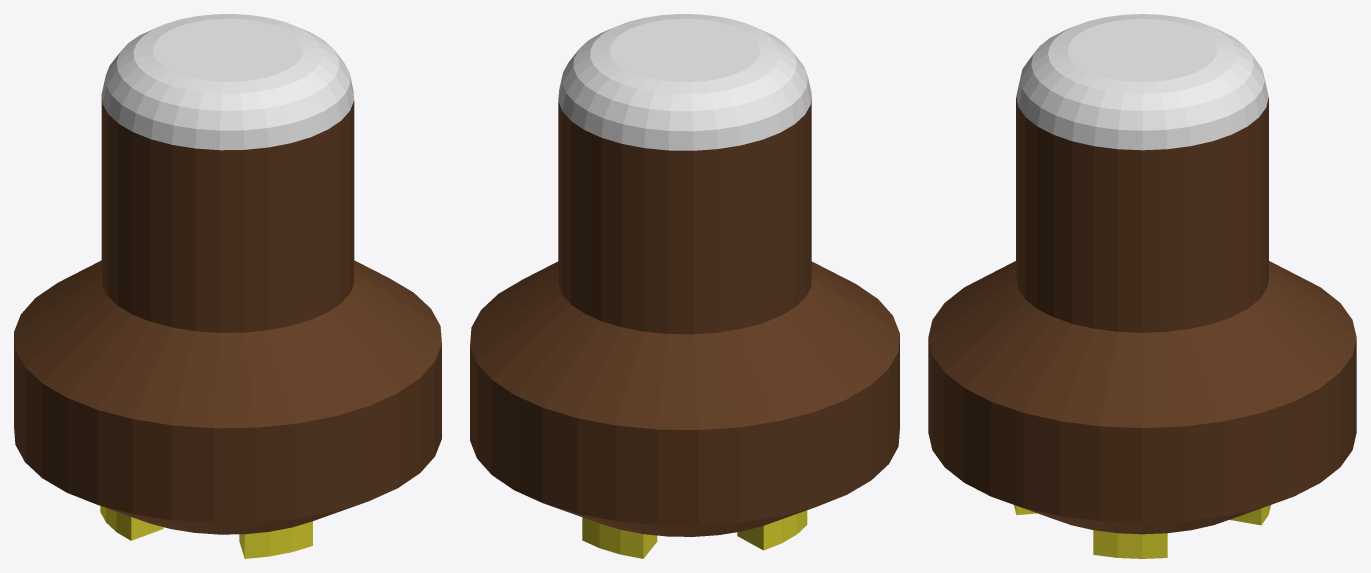
File: tubeEnter.fbx
3 views of the same model, side by side, from view 1: azimuth 30°, elevation 25°; view 2: azimuth 150°, elevation 25°; view 3: azimuth 270°, elevation 25° (orthographic).
Visible parts, largest first — view 1: Cylinder.001; view 2: Cylinder.001; view 3: Cylinder.001.
Part boxes in pixels (left/top/right/bottom): Cylinder.001: left=14, top=14, right=441, bottom=558; Cylinder.001: left=470, top=14, right=899, bottom=558; Cylinder.001: left=928, top=14, right=1356, bottom=558.
Size of the model in its own units: 339 by 397 by 339.
